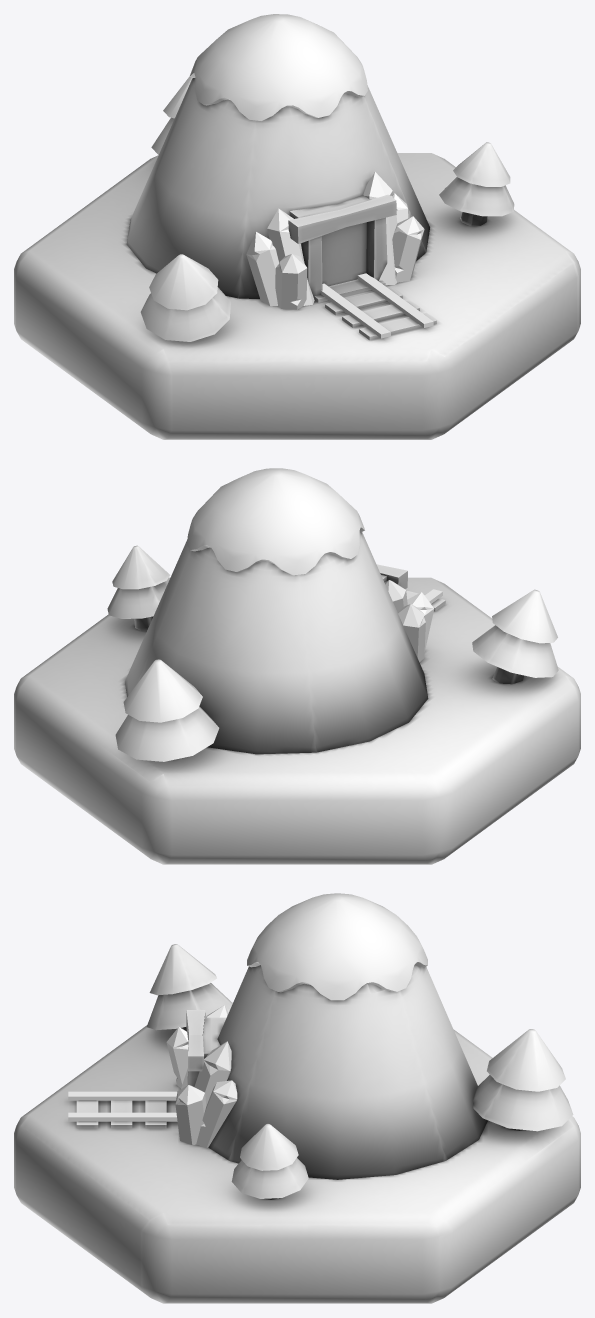
File: 1_mine_bake.dae
3 renders of one model, top to bottom at view 1: azimuth 30°, elevation 25°; view 2: azimuth 150°, elevation 25°; view 3: azimuth 270°, elevation 25°, orthographic.
Parts seen in each view (by area): view 1: kopalnia, czapa, metalik; view 2: kopalnia, czapa, metalik; view 3: kopalnia, czapa, metalik.
Part boxes in pixels (<box>): kopalnia: <box>14,76,580,439</box>; czapa: <box>190,14,367,121</box>; metalik: <box>246,172,433,338</box>; kopalnia: <box>14,532,580,864</box>; czapa: <box>187,468,364,575</box>; metalik: <box>385,580,442,662</box>; kopalnia: <box>14,944,580,1303</box>; czapa: <box>247,893,427,1000</box>; metalik: <box>68,1005,237,1147</box>.
Size of the model in its own units: 1 by 1.13 by 0.6762.
